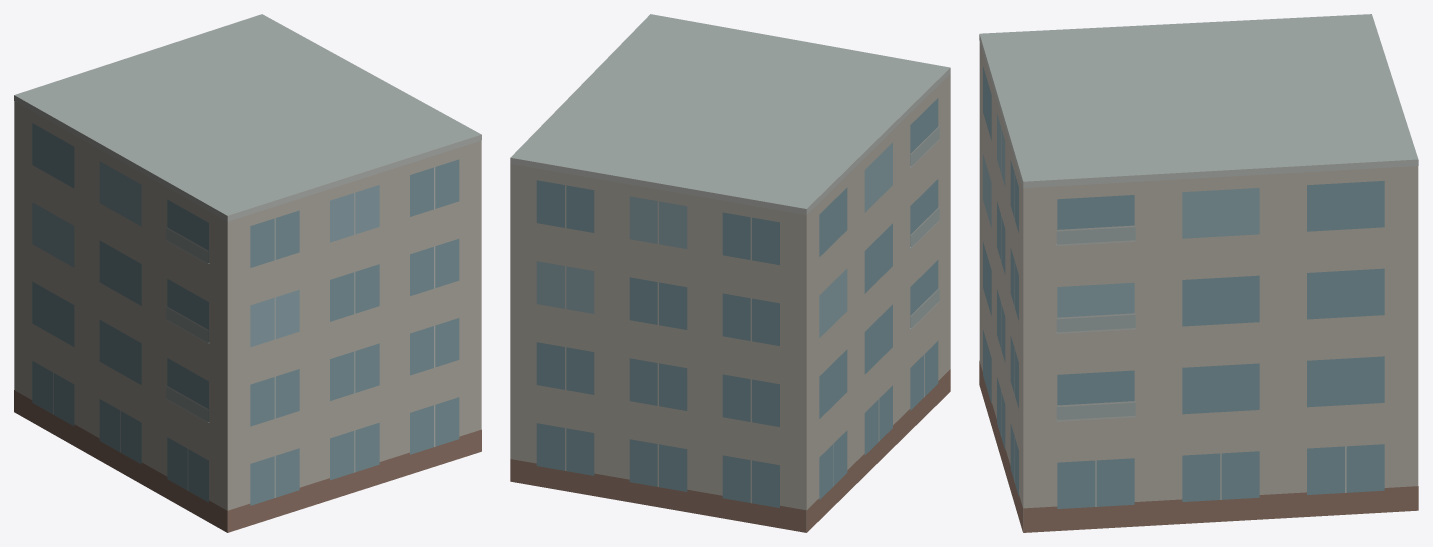
The model's file is survey-upis-32951888.glb.
3 renders of one model, left to right at view 1: azimuth 30°, elevation 25°; view 2: azimuth 150°, elevation 25°; view 3: azimuth 270°, elevation 25°, orthographic. The views are drawn at different scales.
Visible parts, largest first — view 1: survey-upis-32951888.tmp; view 2: survey-upis-32951888.tmp; view 3: survey-upis-32951888.tmp.
Boxes of the visible parts, x1,y1,x2,y2 form: survey-upis-32951888.tmp: (14,14,481,532); survey-upis-32951888.tmp: (510,14,950,532); survey-upis-32951888.tmp: (979,14,1418,532).
Bounding box in the file's own units: 13.43 × 13.1 × 14.85.
